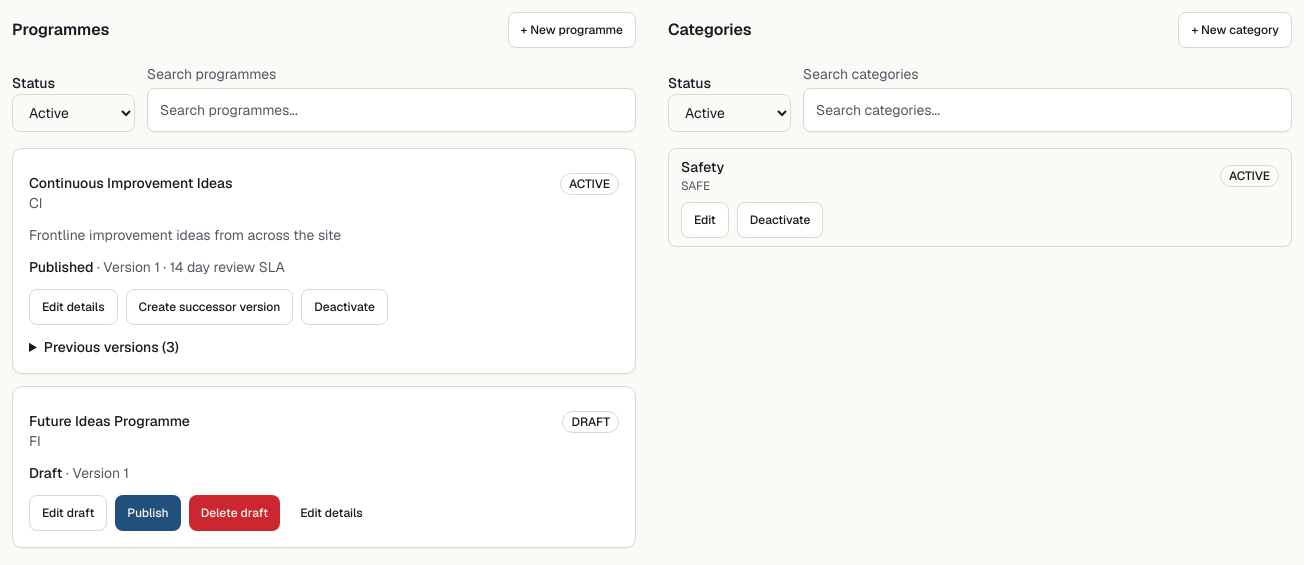
ProgrammeManagement administration UX › shows deactivated categories only with deactivated filter
Select "Deactivated" in the dropdown labelled "Status" below "Search categories" at (730, 113), box [668, 94, 791, 132]
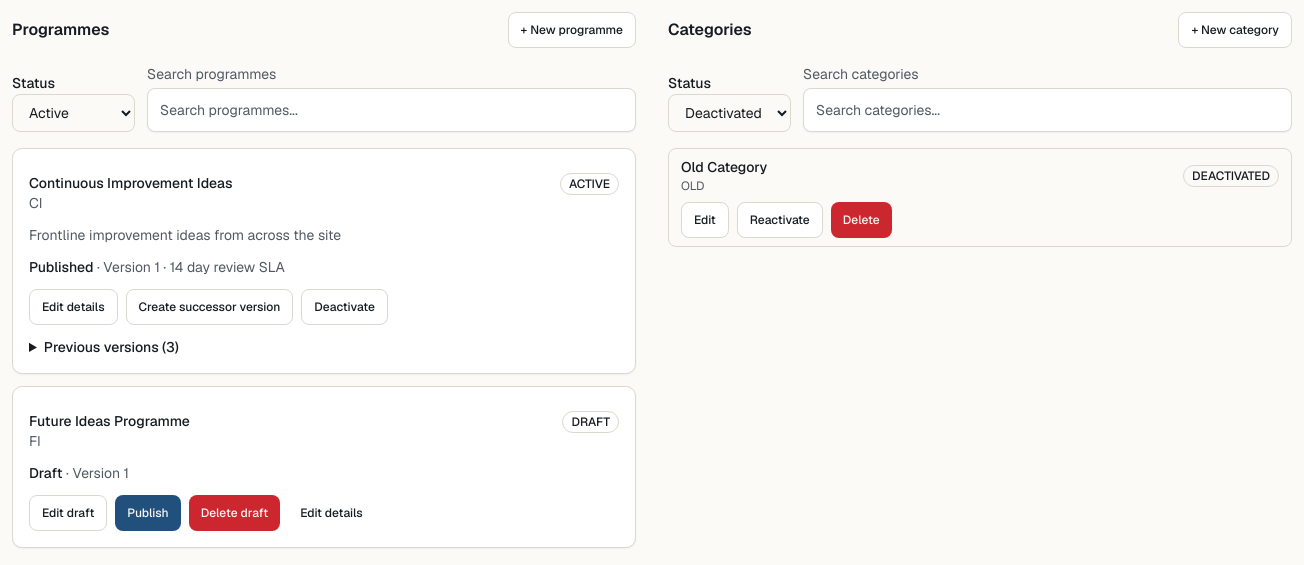
Now the element with test id "category-row-cat-deactivated" is shown, box [668, 148, 1292, 247]
Now the element with test id "category-row-cat-active" is gone
Now the button "Delete" is shown, box [831, 202, 892, 238]
